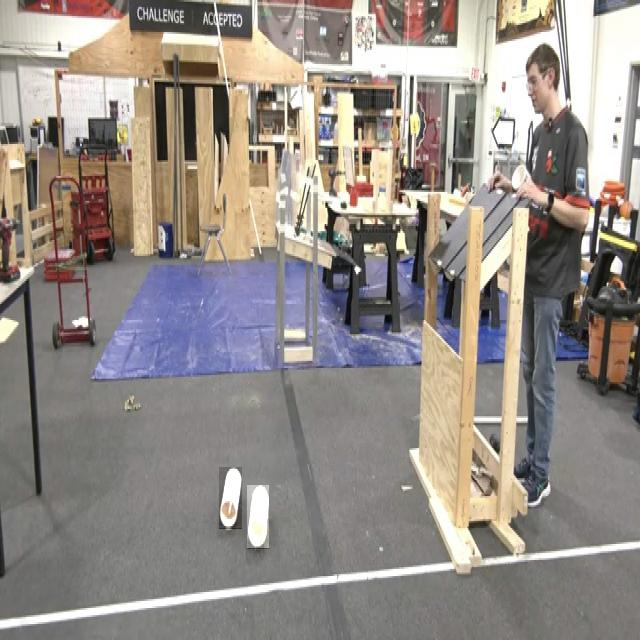Coral: (219, 468, 242, 530), (247, 486, 269, 550)
